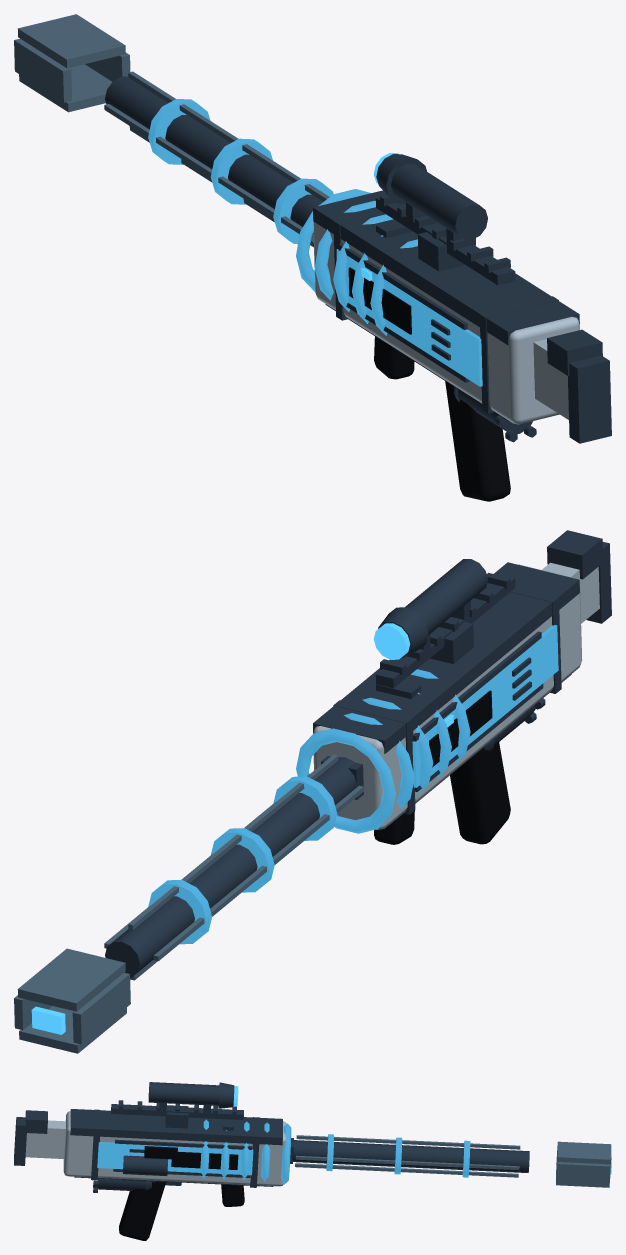
File: rail_cannon.glb
3 views of the same model, one above another, from view 1: azimuth 30°, elevation 25°; view 2: azimuth 150°, elevation 25°; view 3: azimuth 270°, elevation 25° (orthographic). The views are drawn at different scales.
Visible parts, largest first — view 1: Receiver, Barrel, MuzzleDevice, Stock, Scope, Grip, Extras, Rail, ForeGrip, Magazine; view 2: Receiver, Barrel, MuzzleDevice, Extras, Scope, Grip, Stock, Rail, ForeGrip; view 3: Receiver, Barrel, Extras, MuzzleDevice, Stock, Scope, Grip, Rail, Magazine, ForeGrip.
Boxes of the visible parts, x1,y1,x2,y2 form: Receiver: [313, 190, 579, 424]; Barrel: [104, 71, 333, 247]; MuzzleDevice: [14, 14, 130, 112]; Stock: [533, 329, 611, 443]; Scope: [373, 153, 487, 245]; Grip: [445, 381, 510, 501]; Extras: [296, 189, 417, 335]; Rail: [375, 195, 515, 285]; ForeGrip: [374, 336, 414, 379]; Magazine: [454, 387, 532, 433]; Receiver: [313, 562, 582, 829]; Barrel: [104, 754, 363, 980]; MuzzleDevice: [14, 948, 130, 1053]; Extras: [296, 669, 470, 833]; Scope: [374, 559, 487, 659]; Grip: [450, 741, 510, 844]; Stock: [542, 530, 611, 623]; Rail: [375, 573, 515, 688]; ForeGrip: [374, 810, 414, 844]; Receiver: [63, 1105, 286, 1187]; Barrel: [290, 1134, 529, 1177]; Extras: [123, 1119, 291, 1184]; MuzzleDevice: [556, 1141, 611, 1187]; Stock: [14, 1110, 65, 1165]; Scope: [148, 1082, 238, 1114]; Grip: [119, 1179, 181, 1240]; Rail: [111, 1100, 243, 1120]; Magazine: [97, 1178, 151, 1190]; ForeGrip: [221, 1184, 244, 1206].
Size of the model in its own units: 0.1632 by 0.4112 by 1.43.
